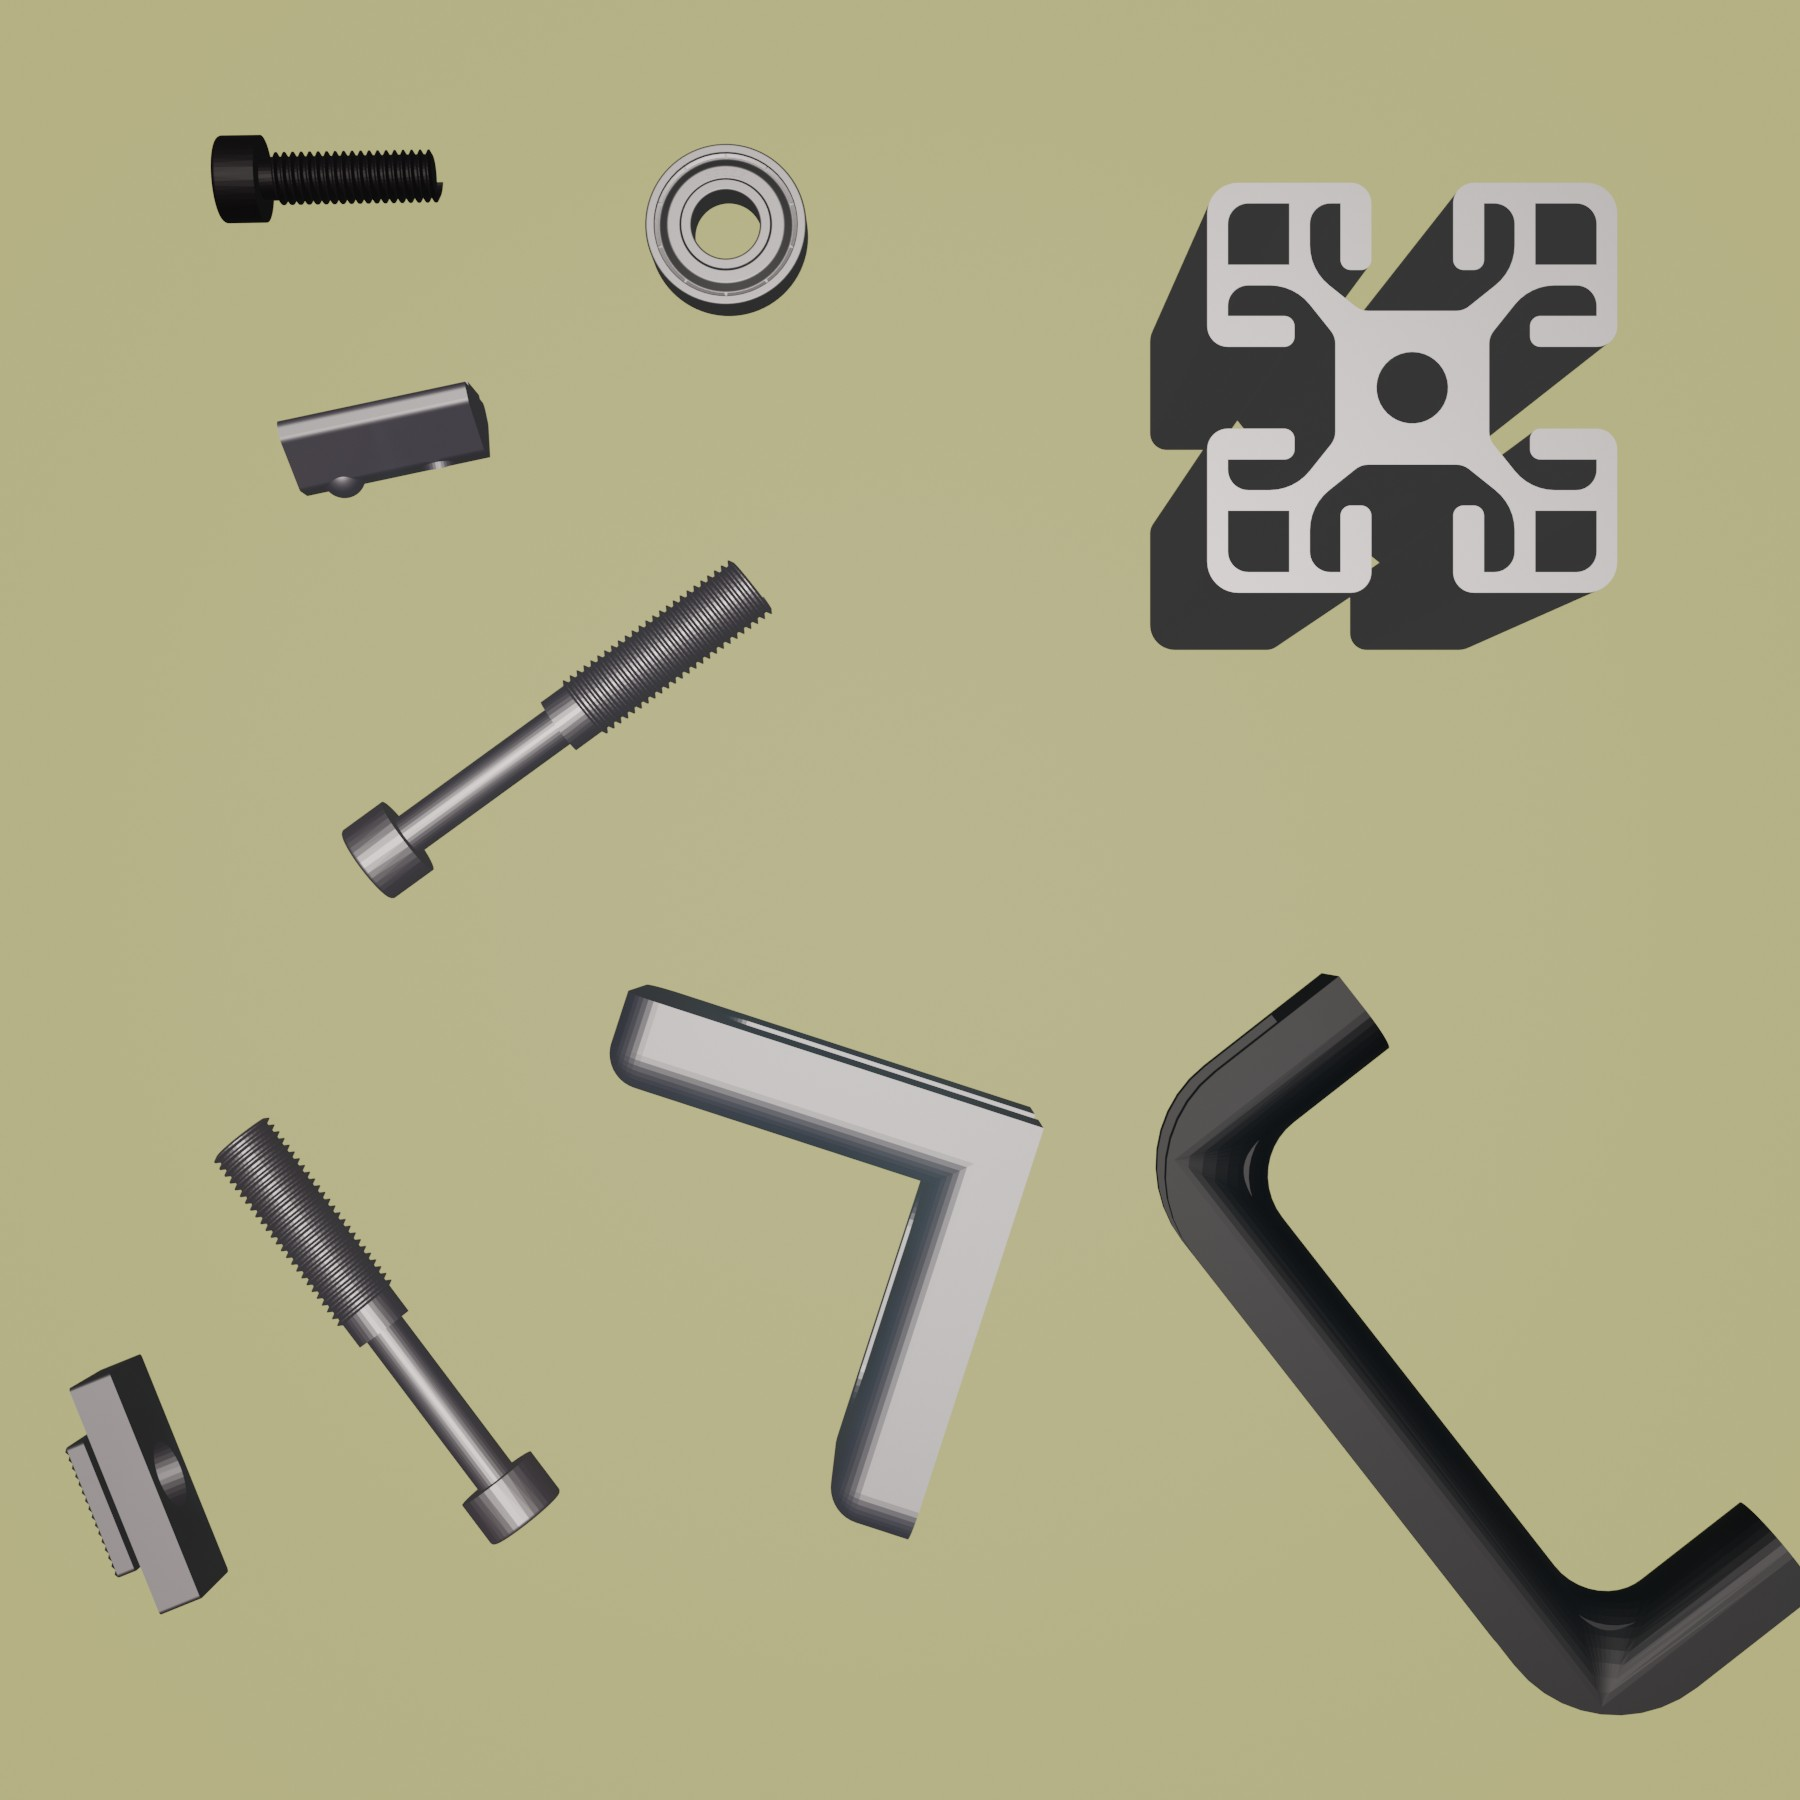Aluminium Extension: (1142, 178, 1624, 653)
Ball Bearing: (643, 138, 811, 320)
Multiwinkel: (608, 981, 1047, 1545)
Pull Handle: (1154, 973, 1800, 1719)
Shoulder Socket Head Cap Screw: (211, 1111, 560, 1548), (338, 554, 775, 902)
Socket Head Cap Screw: (206, 130, 447, 227)
T Nut Square: (59, 1350, 229, 1619)
T Spring Nut: (274, 377, 495, 499)
